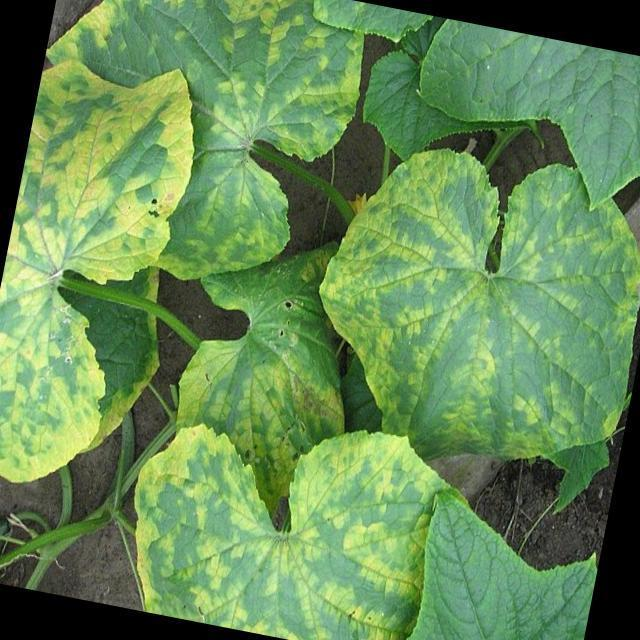Mosaic Virus: (306, 131, 640, 485), (11, 0, 362, 298), (123, 411, 453, 640), (0, 71, 164, 474)
